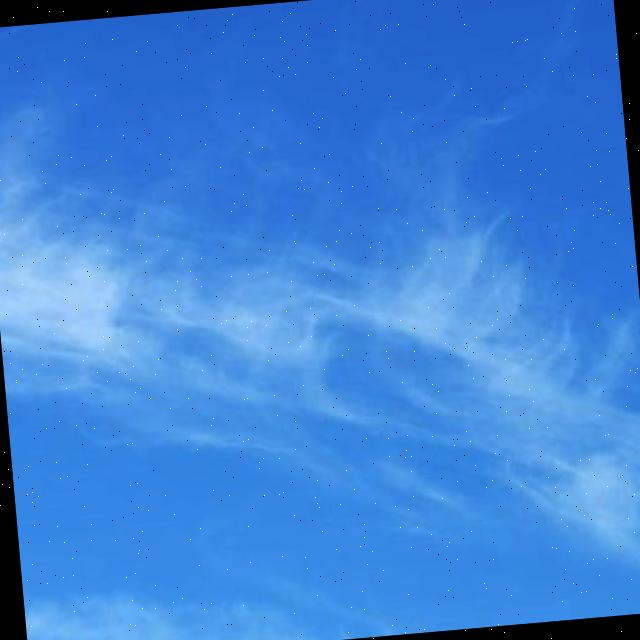Ci: (1, 1, 640, 594)
